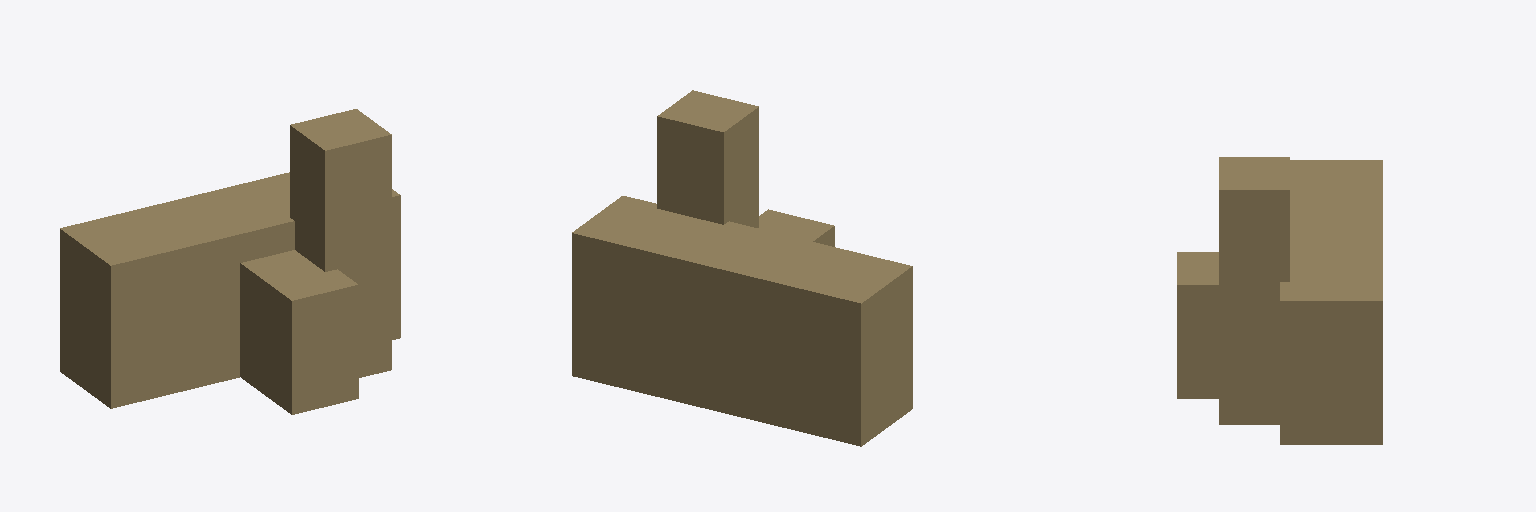
Rendered from Cathedral_wood.obj.
3 renders of one model, left to right at view 1: azimuth 30°, elevation 25°; view 2: azimuth 150°, elevation 25°; view 3: azimuth 270°, elevation 25°, orthographic.
Visible parts, largest first — view 1: polySurface1 pCube1, pCube1 polySurface4, pCube1 polySurface3; view 2: polySurface1 pCube1, pCube1 polySurface4, pCube1 polySurface3; view 3: polySurface1 pCube1, pCube1 polySurface4, pCube1 polySurface3.
Part boxes in pixels (x1,y1,x2,y2): polySurface1 pCube1: (60,172,400,408); pCube1 polySurface4: (290,109,391,377); pCube1 polySurface3: (240,250,358,414); polySurface1 pCube1: (572,196,912,446); pCube1 polySurface4: (657,90,758,227); pCube1 polySurface3: (758,209,834,246); polySurface1 pCube1: (1280,160,1382,444); pCube1 polySurface4: (1219,157,1289,424); pCube1 polySurface3: (1177,252,1218,398).
Bounding box in the file's own units: 20.28 × 15.75 × 12.46.